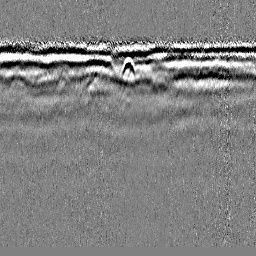cavity: (120, 56, 137, 83)
